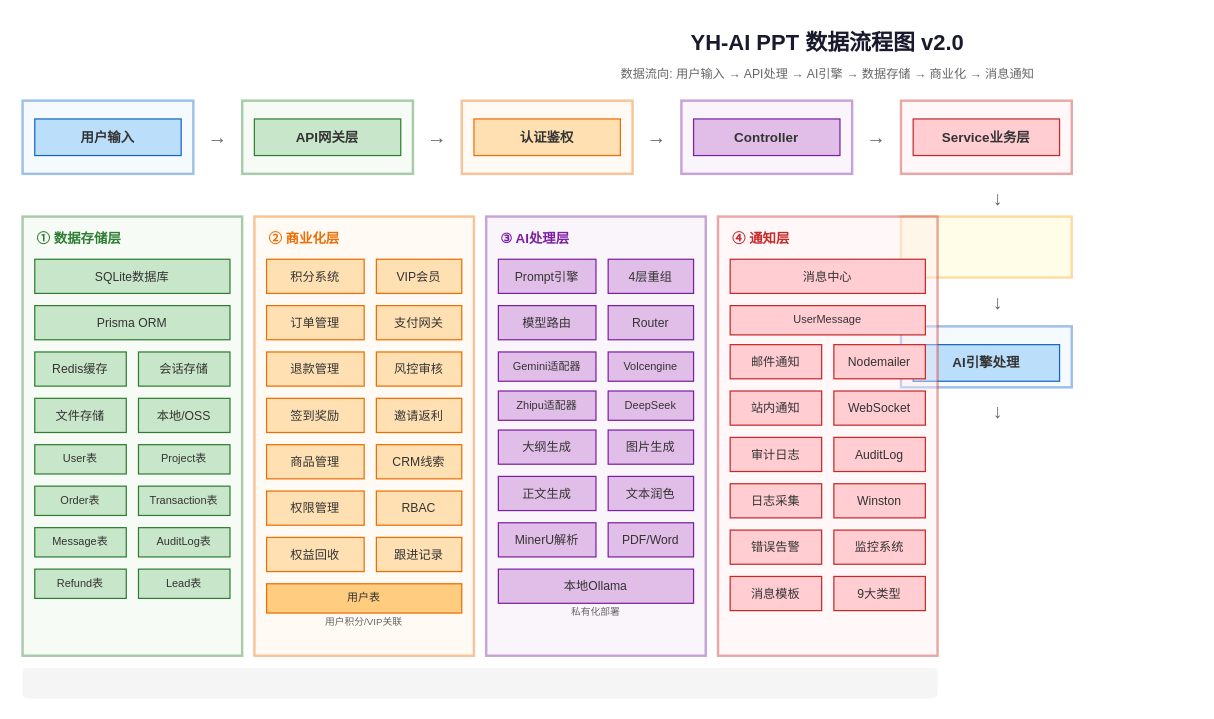
Some shapes in this 1214 by 719 pixel diagram are drawn without their labels. Each missing label, with the centre of its shape:
YH-AI PPT v2.0 | 数据流转全览 | 入口→处理→存储→商业化→通知: point 479,682
需要AI处理?: point 985,246
